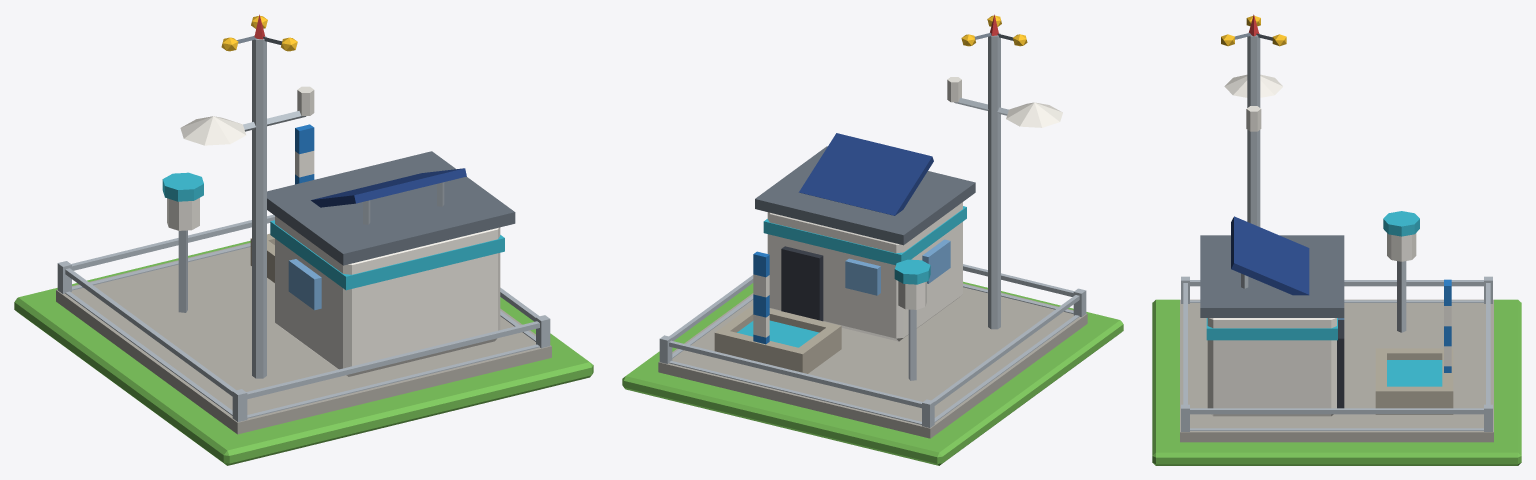
Rendered from monitoring_station.glb.
3 views of the same model, side by side, from view 1: azimuth 30°, elevation 25°; view 2: azimuth 150°, elevation 25°; view 3: azimuth 270°, elevation 25° (orthographic). The views are drawn at different scales.
Visible parts, largest first — view 1: corpo; view 2: corpo; view 3: corpo.
Boxes of the visible parts, x1,y1,x2,y2 form: corpo: (14, 14, 593, 465); corpo: (622, 14, 1123, 465); corpo: (1152, 14, 1521, 465).
Size of the model in its own units: 2 by 2.01 by 2.
